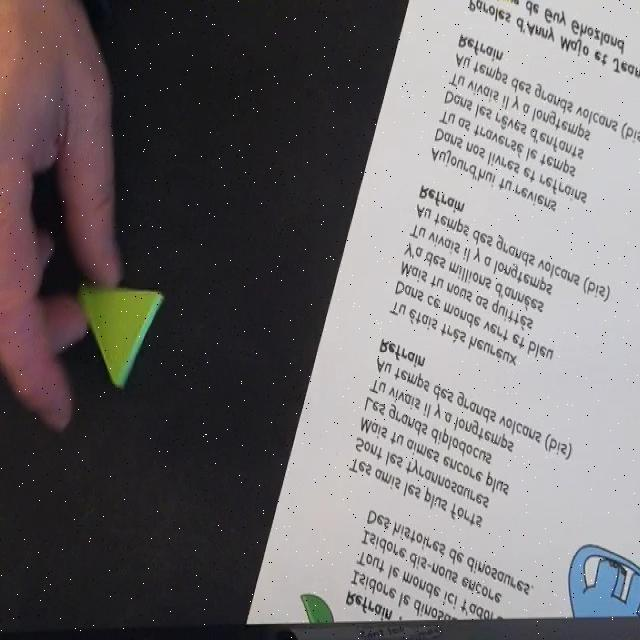triangle: (78, 286, 164, 390)
